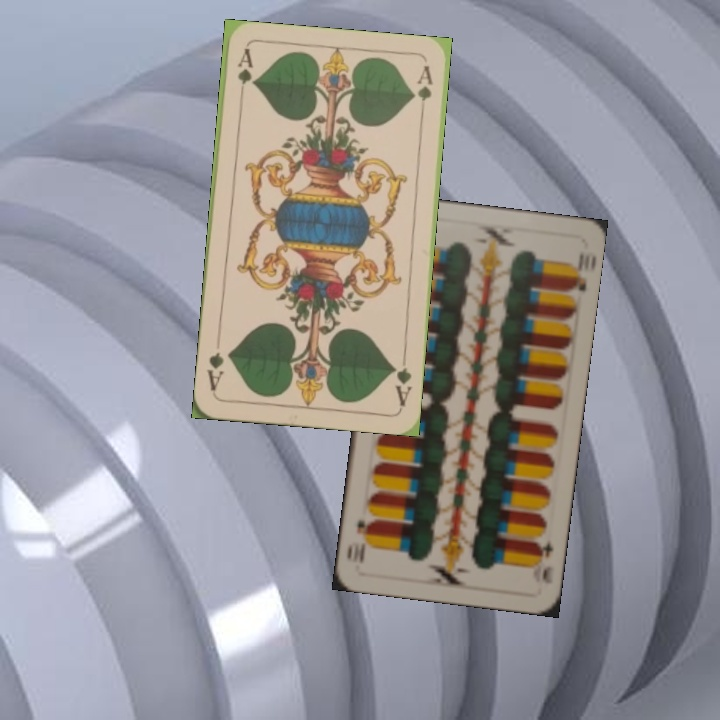E10: (530, 535, 556, 587)
GA: (234, 45, 255, 105), (389, 362, 415, 409)
